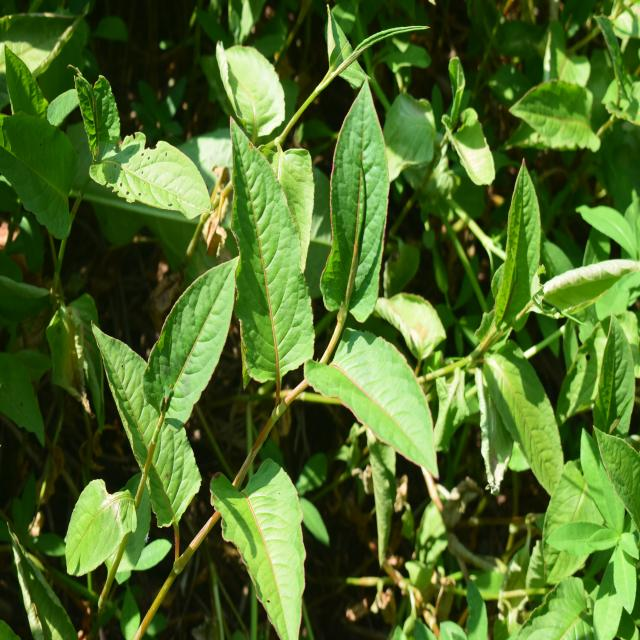Chinese_knotweed: (197, 93, 458, 477)
